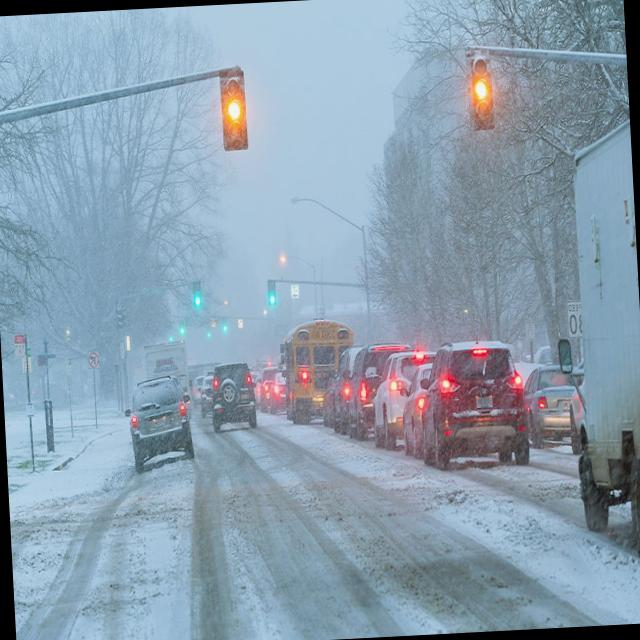Vehicle: (426, 332, 530, 478), (114, 372, 195, 473), (280, 313, 334, 422), (208, 349, 256, 436), (378, 352, 414, 443), (348, 335, 379, 437)
